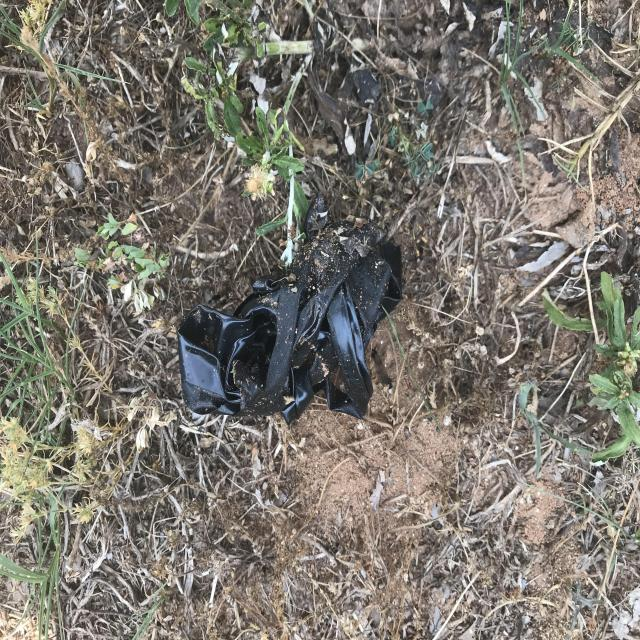litter: (178, 191, 403, 425)
